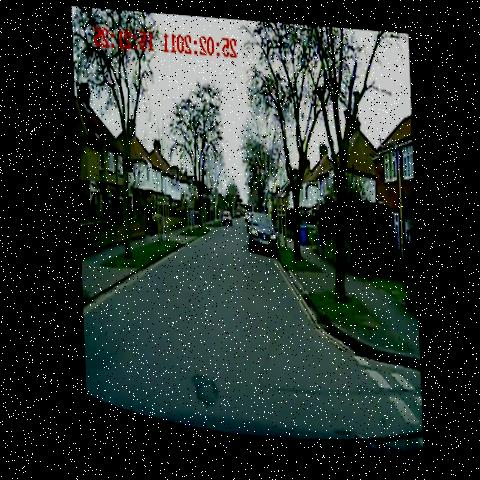pothole: (180, 362, 223, 417)
